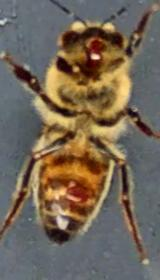varroa_mite: (62, 180, 98, 208)
